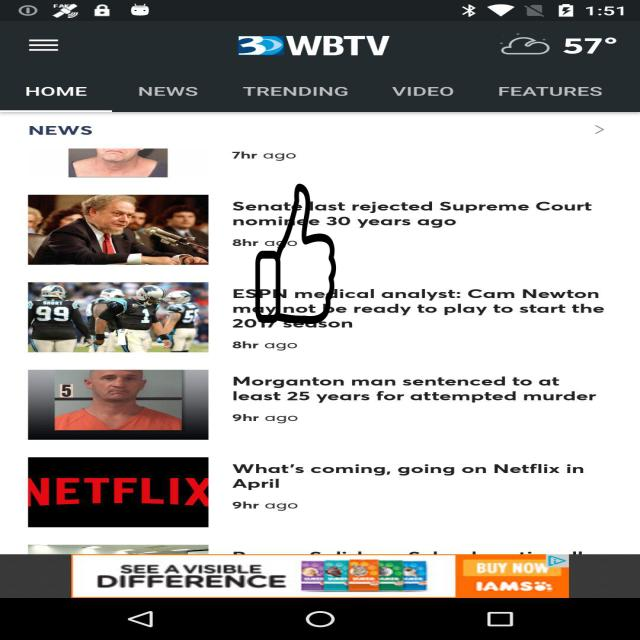privacy zuckering: (254, 184, 337, 324)
